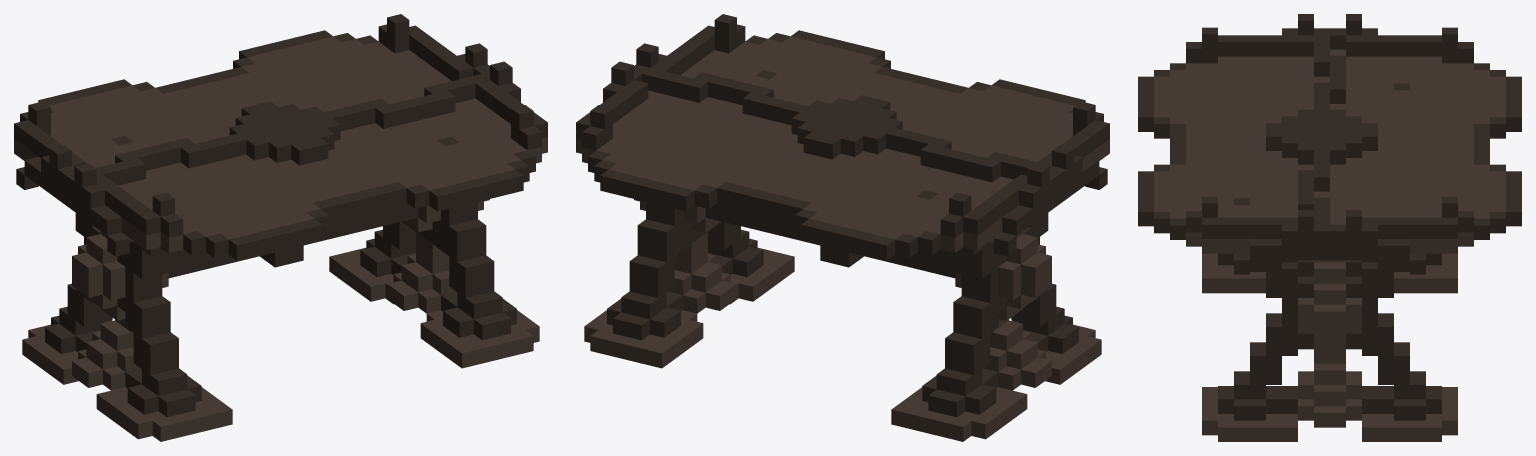
The model's file is TableSmall2.obj.
3 views of the same model, side by side, from view 1: azimuth 30°, elevation 25°; view 2: azimuth 150°, elevation 25°; view 3: azimuth 270°, elevation 25° (orthographic). The views are drawn at different scales.
Size of the model in its own units: 3 by 1.6 by 2.4.
Materials: 1 (1 with a texture image).
